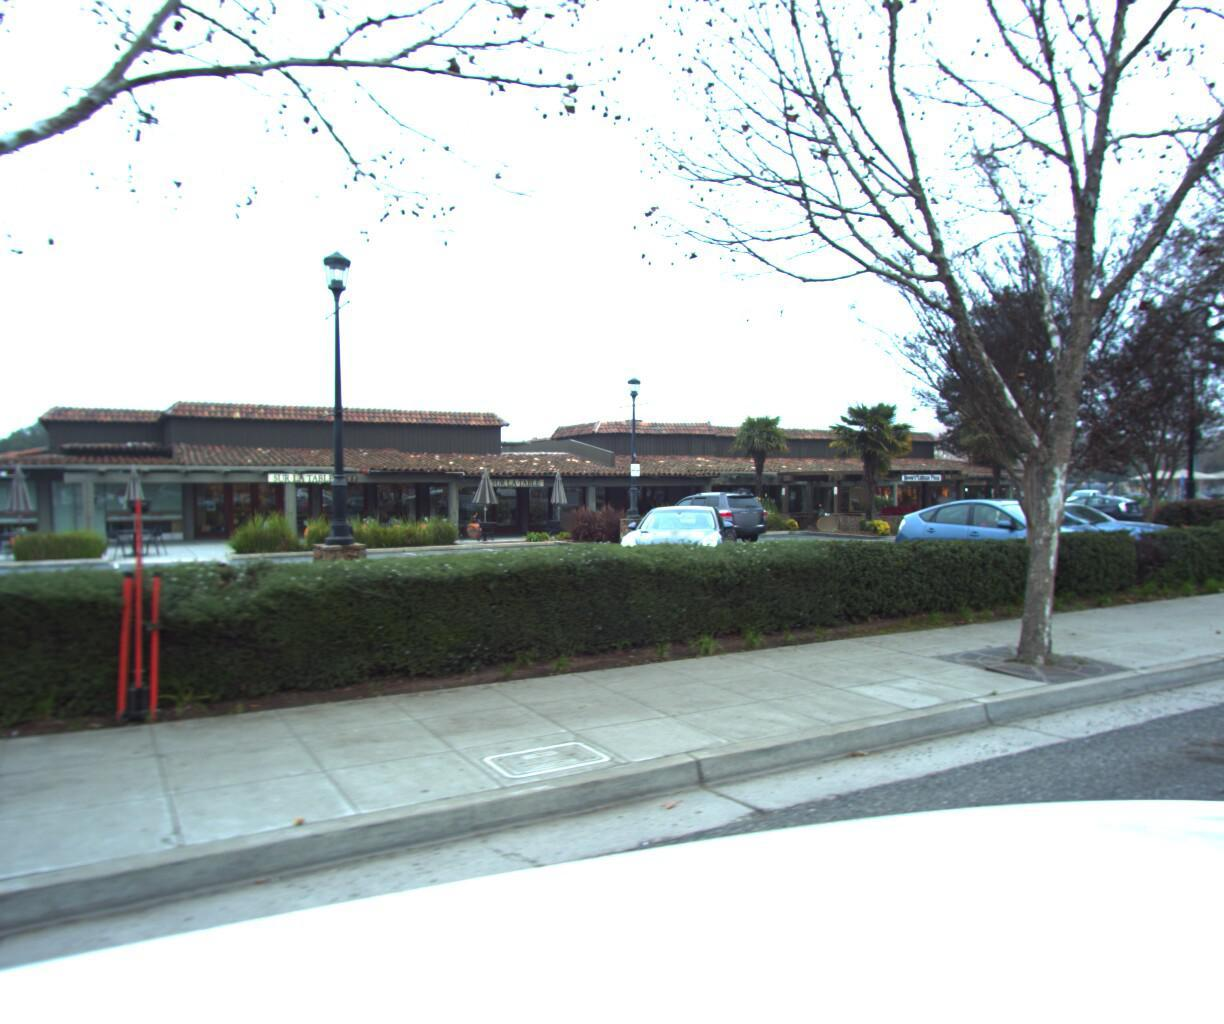car: (889, 492, 1135, 582), (954, 491, 1194, 573), (608, 500, 742, 588)
